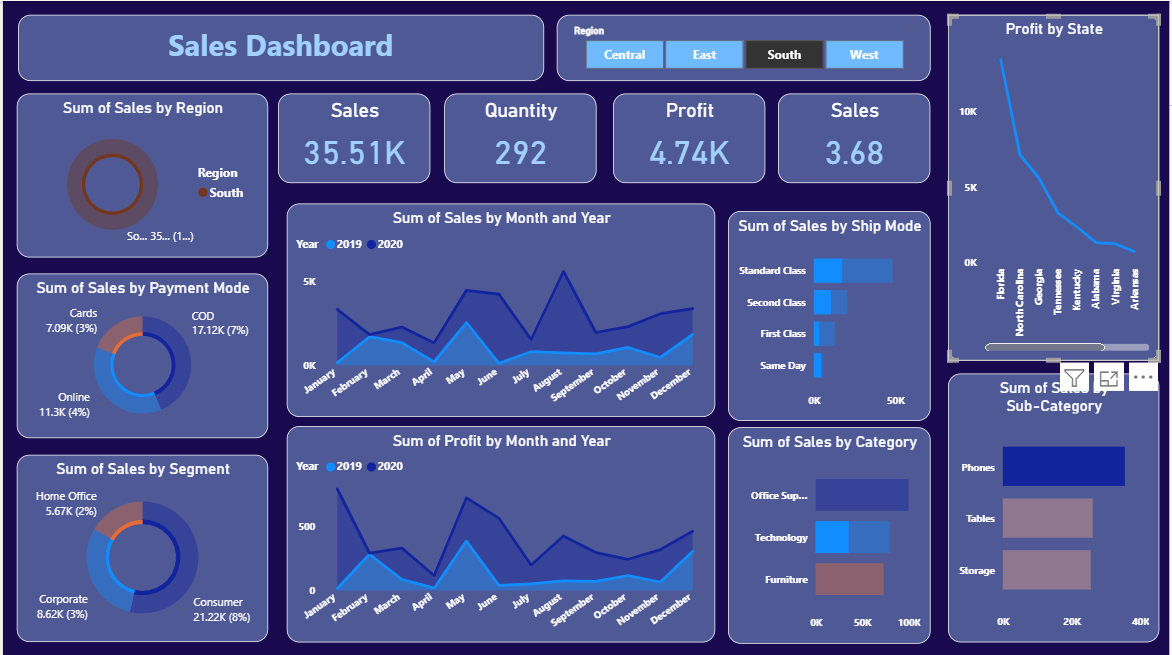

What the dashboard file says about the page in this screenshot:
{"tool":"powerbi","page":{"name":"Page 1","canvas":[1280,720],"ordinal":0},"visuals":[{"type":"clusteredBarChart","fields":{"Y":["Sum(SuperStore_Sales_Dataset.Sales)"],"Category":["SuperStore_Sales_Dataset.Sub-Category"]},"box":[1037.4,408.9,231.9,295],"z":0},{"type":"clusteredBarChart","fields":{"Category":["SuperStore_Sales_Dataset.Category"],"Y":["Sum(SuperStore_Sales_Dataset.Sales)"]},"box":[795.9,467.9,222.3,237.4],"z":1000},{"type":"clusteredBarChart","fields":{"Y":["Sum(SuperStore_Sales_Dataset.Sales)"],"Category":["SuperStore_Sales_Dataset.Ship Mode"]},"box":[795.9,230.5,222.3,230.5],"z":2000},{"type":"stackedAreaChart","fields":{"Y":["Sum(SuperStore_Sales_Dataset.Sales)"],"Series":["SuperStore_Sales_Dataset.Order Date.Variation.Date Hierarchy.Year"],"Category":["SuperStore_Sales_Dataset.Order Date.Variation.Date Hierarchy.Month","SuperStore_Sales_Dataset.Order Date.Variation.Date Hierarchy.Day"]},"box":[311.5,222.3,470.7,234.6],"z":3000},{"type":"stackedAreaChart","fields":{"Series":["SuperStore_Sales_Dataset.Order Date.Variation.Date Hierarchy.Year"],"Category":["SuperStore_Sales_Dataset.Order Date.Variation.Date Hierarchy.Month","SuperStore_Sales_Dataset.Order Date.Variation.Date Hierarchy.Day"],"Y":["Sum(SuperStore_Sales_Dataset.Profit)"]},"box":[311.5,466.6,470.7,237.4],"z":4000},{"type":"lineChart","title":"Profit by State","fields":{"Category":["SuperStore_Sales_Dataset.State"],"Y":["Sum(SuperStore_Sales_Dataset.Sales)"]},"box":[1037.4,15.1,231.9,380.1],"z":5000},{"type":"donutChart","fields":{"Y":["Sum(SuperStore_Sales_Dataset.Sales)"],"Category":["SuperStore_Sales_Dataset.Segment"]},"box":[15.1,498.1,275.8,205.8],"z":6000},{"type":"donutChart","fields":{"Y":["Sum(SuperStore_Sales_Dataset.Sales)"],"Category":["SuperStore_Sales_Dataset.Payment Mode"]},"box":[15.1,299.1,275.8,181.1],"z":7000},{"type":"slicer","fields":{"Values":["SuperStore_Sales_Dataset.Region"]},"box":[607.9,15.1,376,72.7],"z":8000},{"type":"textbox","box":[16.5,15.1,577.7,72.7],"z":9000},{"type":"card","title":"Sales","fields":{"Values":["Sum(SuperStore_Sales_Dataset.Sales)"]},"box":[301.9,101.5,167.4,98.8],"z":10000},{"type":"card","title":"Quantity","fields":{"Values":["Sum(SuperStore_Sales_Dataset.Quantity)"]},"box":[484.4,101.5,167.4,98.8],"z":11000},{"type":"card","title":"Profit","fields":{"Values":["Sum(SuperStore_Sales_Dataset.Profit)"]},"box":[669.6,101.5,167.4,98.8],"z":12000},{"type":"card","title":"Sales","fields":{"Values":["Avg(SuperStore_Sales_Dataset.Avg Delivery)"]},"box":[850.8,101.5,167.4,98.8],"z":13000},{"type":"donutChart","fields":{"Y":["Sum(SuperStore_Sales_Dataset.Sales)"],"Category":["SuperStore_Sales_Dataset.Region"]},"box":[15.1,101.5,275.8,179.8],"z":14000}]}

Visuals, with their boxes in screenshot pixels (x1, y1, x2, y2), scaled from the page's 1280x720 canvas onto the 1172x655 screenshot:
clusteredBarChart - Sum(SuperStore_Sales_Dataset.Sales) x SuperStore_Sales_Dataset.Sub-Category: <box>950,372,1162,640</box>
clusteredBarChart - SuperStore_Sales_Dataset.Category x Sum(SuperStore_Sales_Dataset.Sales): <box>729,426,932,642</box>
clusteredBarChart - Sum(SuperStore_Sales_Dataset.Sales) x SuperStore_Sales_Dataset.Ship Mode: <box>729,210,932,419</box>
stackedAreaChart - Sum(SuperStore_Sales_Dataset.Sales) x SuperStore_Sales_Dataset.Order Date.Variation.Date Hierarchy.Year: <box>285,202,716,416</box>
stackedAreaChart - SuperStore_Sales_Dataset.Order Date.Variation.Date Hierarchy.Year x SuperStore_Sales_Dataset.Order Date.Variation.Date Hierarchy.Month: <box>285,424,716,640</box>
"Profit by State" lineChart: <box>950,14,1162,360</box>
donutChart - Sum(SuperStore_Sales_Dataset.Sales) x SuperStore_Sales_Dataset.Segment: <box>14,453,266,640</box>
donutChart - Sum(SuperStore_Sales_Dataset.Sales) x SuperStore_Sales_Dataset.Payment Mode: <box>14,272,266,437</box>
slicer - SuperStore_Sales_Dataset.Region: <box>557,14,901,80</box>
textbox: <box>15,14,544,80</box>
"Sales" card: <box>276,92,430,182</box>
"Quantity" card: <box>444,92,597,182</box>
"Profit" card: <box>613,92,766,182</box>
"Sales" card: <box>779,92,932,182</box>
donutChart - Sum(SuperStore_Sales_Dataset.Sales) x SuperStore_Sales_Dataset.Region: <box>14,92,266,256</box>
